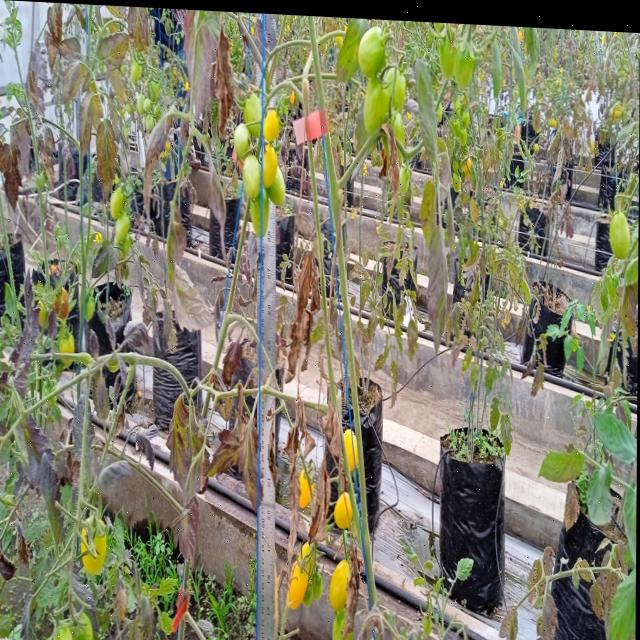fine: (83, 510, 110, 581), (330, 553, 353, 610), (289, 555, 309, 610), (296, 459, 316, 511), (335, 484, 355, 531), (262, 102, 282, 143), (261, 138, 278, 186)
unripe: (364, 64, 391, 137), (358, 22, 388, 74), (609, 204, 632, 253), (250, 184, 270, 239), (241, 149, 261, 196), (245, 89, 263, 137), (233, 121, 251, 158), (49, 617, 75, 640), (110, 184, 125, 221), (131, 54, 143, 84)
